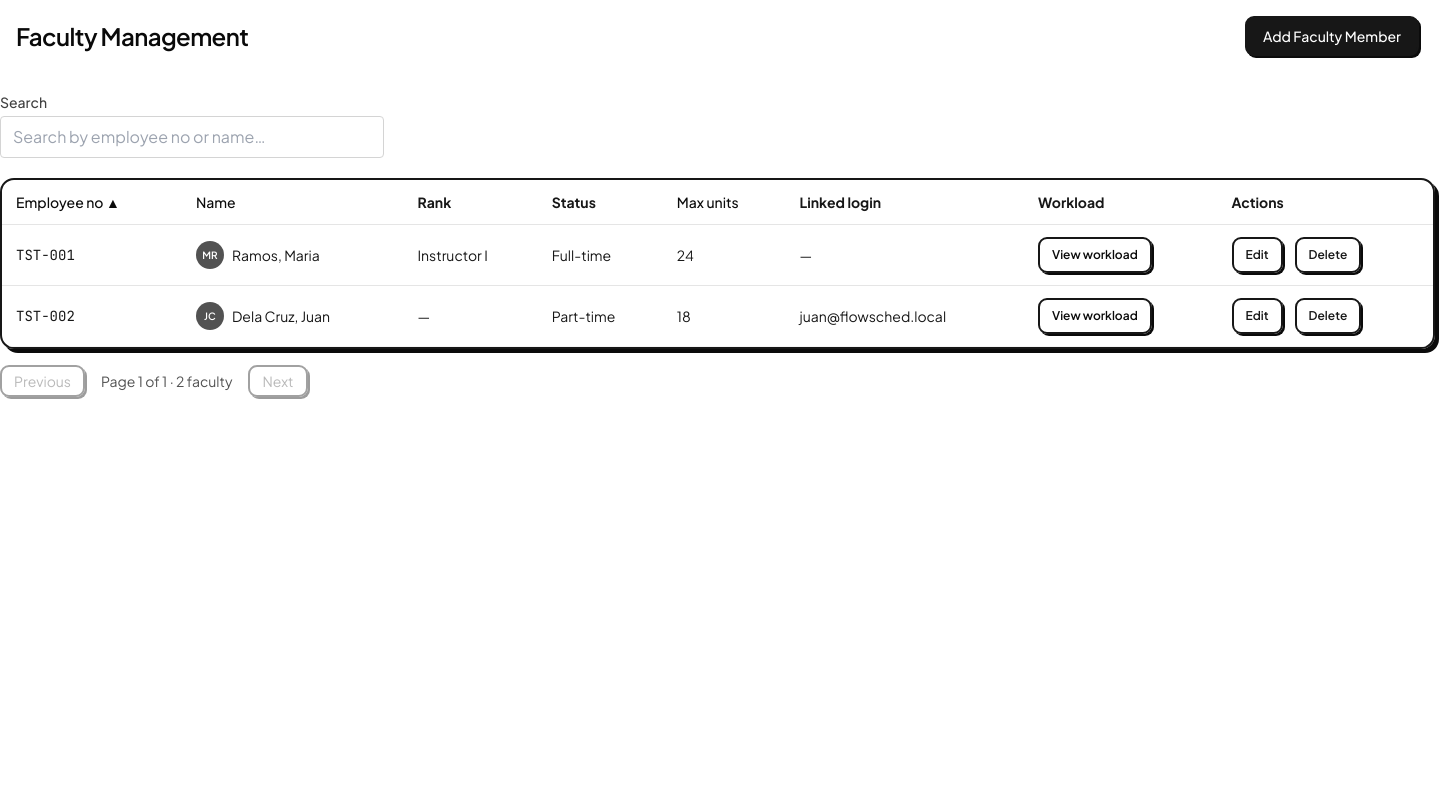
it: FacultyPage — edit › pre-fills the modal and saves edits in place
The width and height of the screenshot is (1440, 810).
Click the button "Edit" in the row of "TST-001".
click(1257, 255)  # box [1232,237,1283,273]
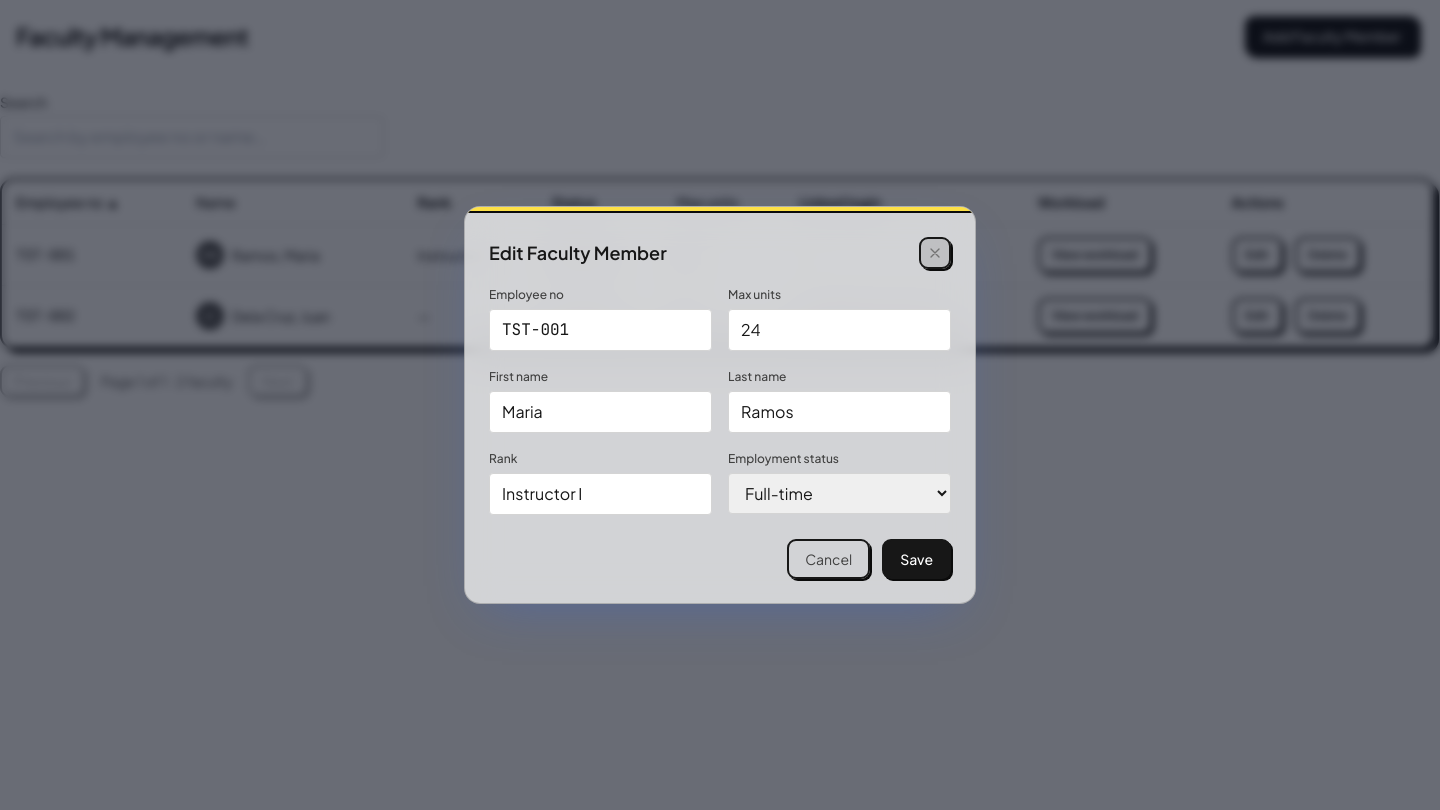
Expected: the dialog shows "Edit Faculty Member", [489,241,667,264]
Expected: the field labelled "First name" holds "Maria"
Replace the text in the field labelled "First name" with "Maria Clara" at (600, 412), box [489,391,712,433]
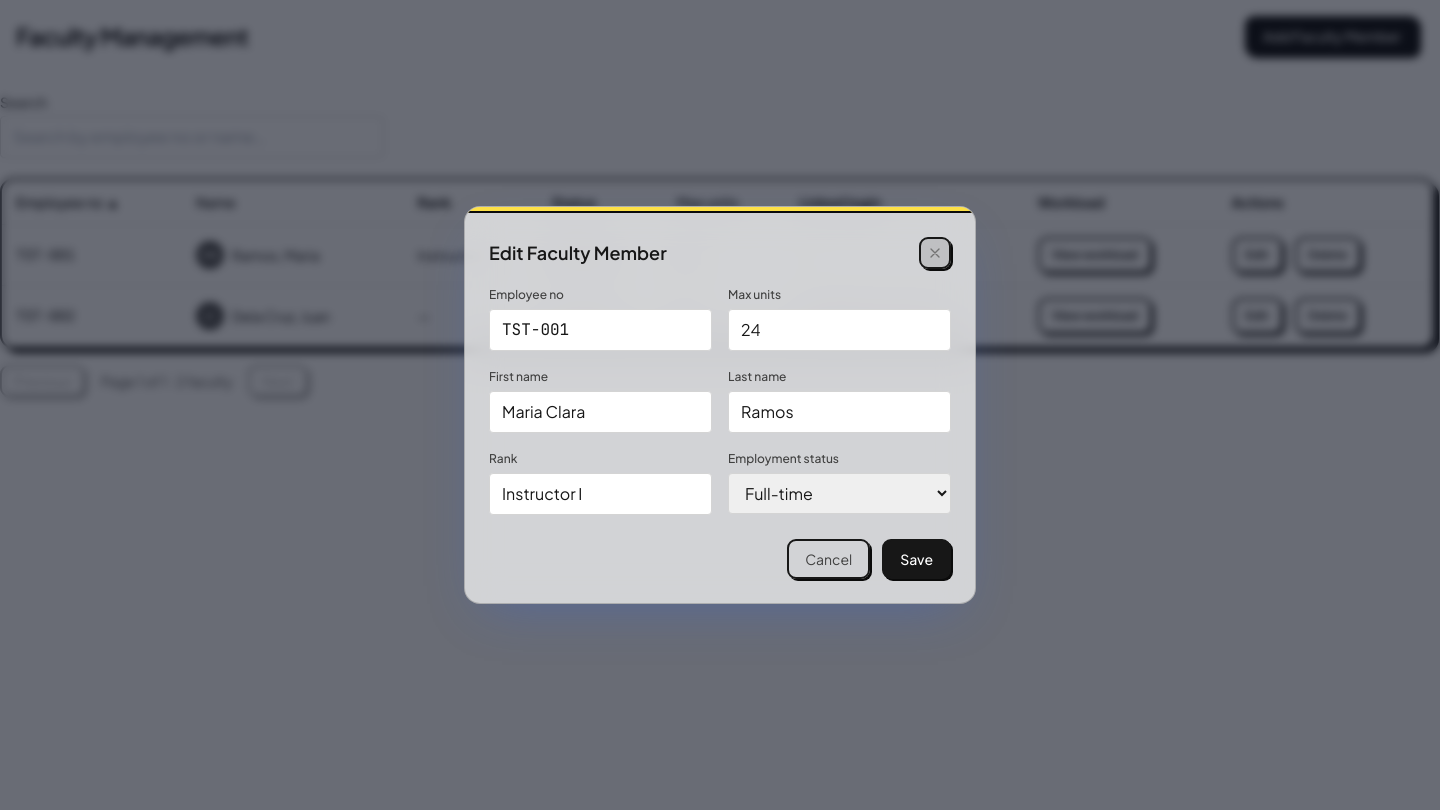
Click the button "Save".
click(917, 559)  # box [882,539,951,579]
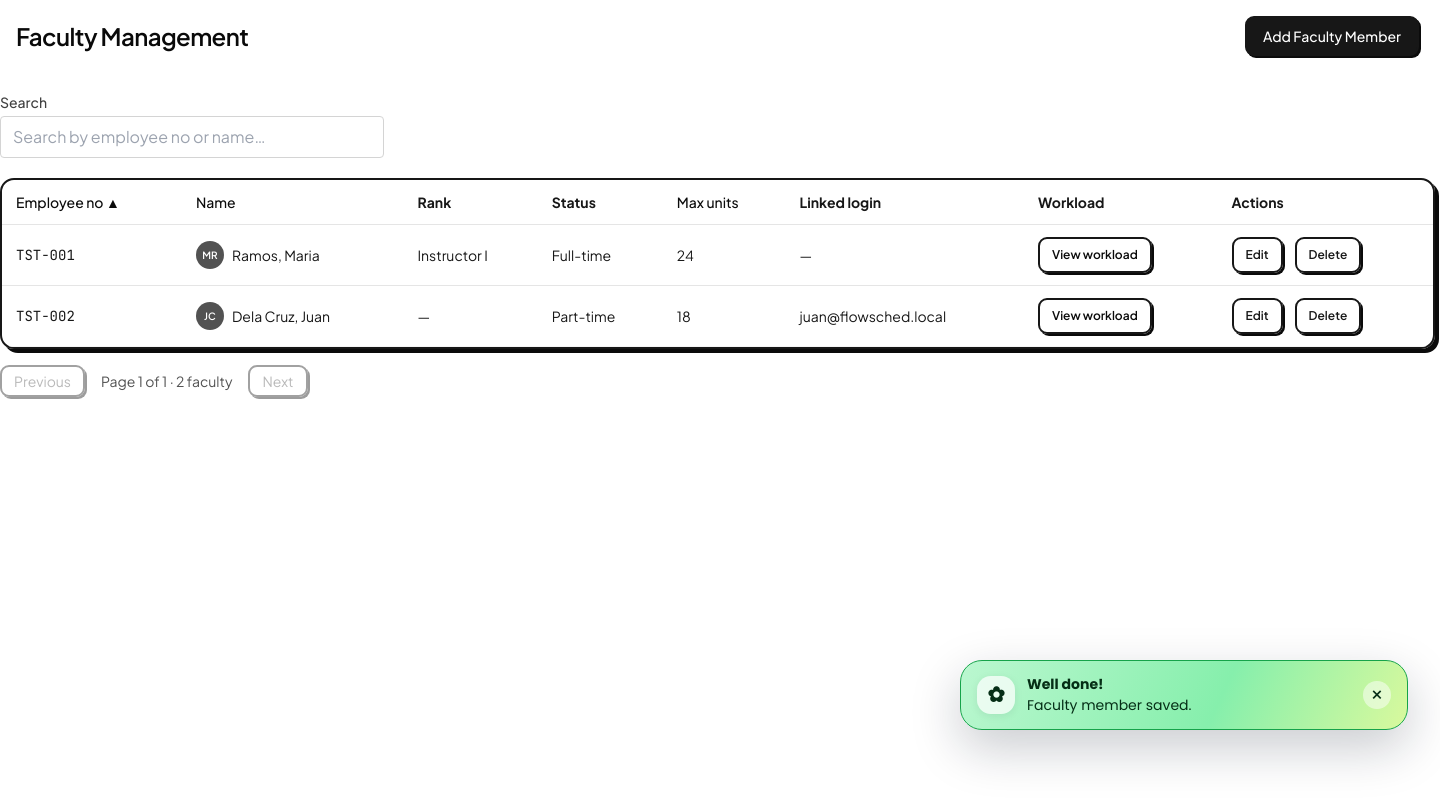
Expected: the text "Faculty member saved." is shown, [1027,695,1192,715]
